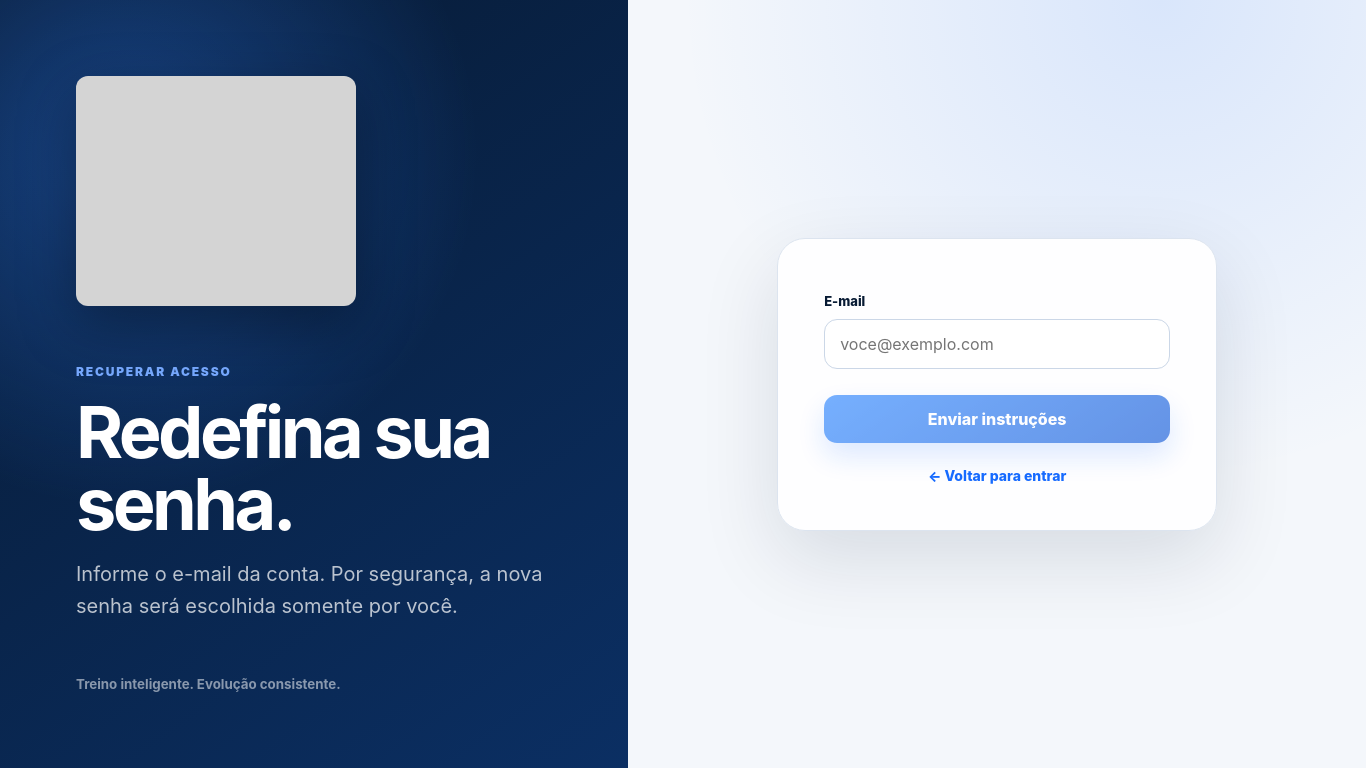
Test: recuperação de senha › envia instruções sem revelar se o e-mail existe
The width and height of the screenshot is (1366, 768).
Type "pessoa@exemplo.com" into the field labelled "E-mail" at (997,344), box [824, 318, 1170, 368]
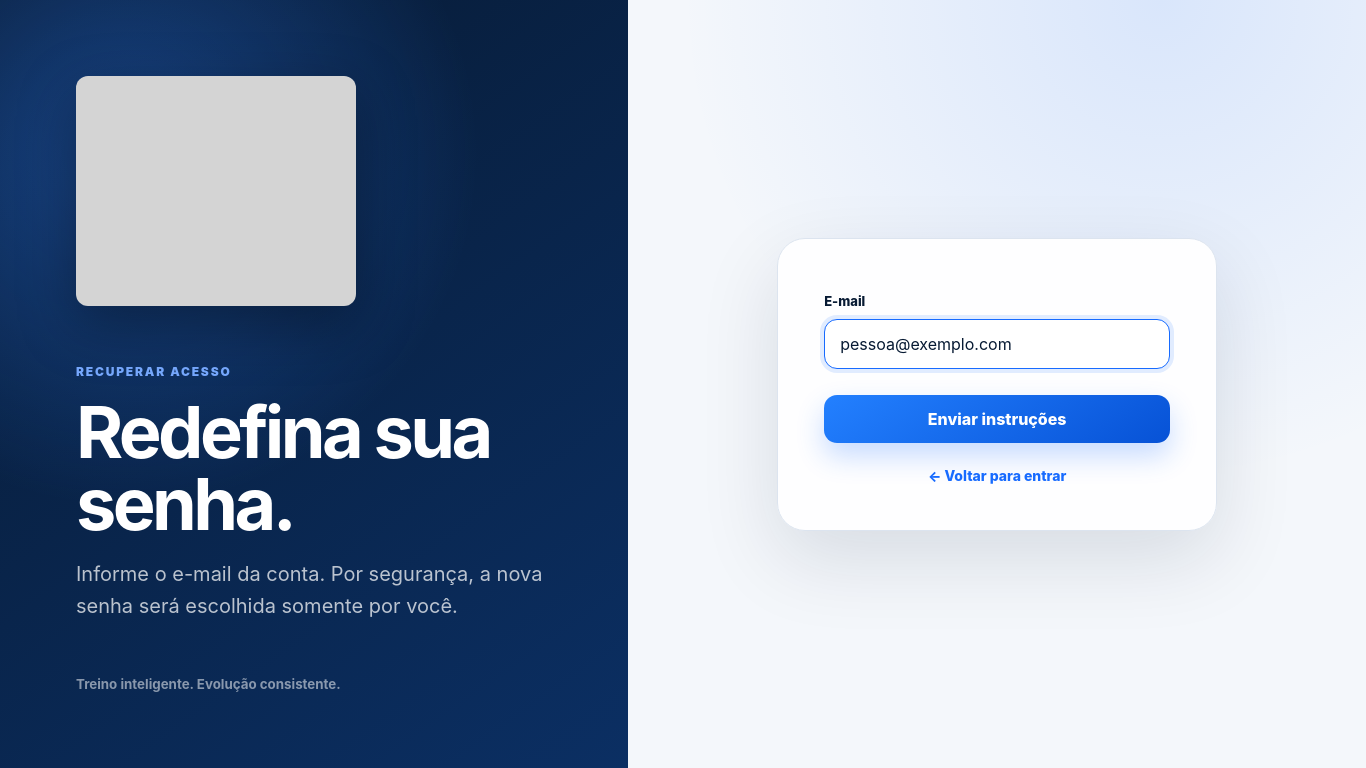
Click the button "Enviar instruções" at (997,418), box [824, 394, 1170, 442]
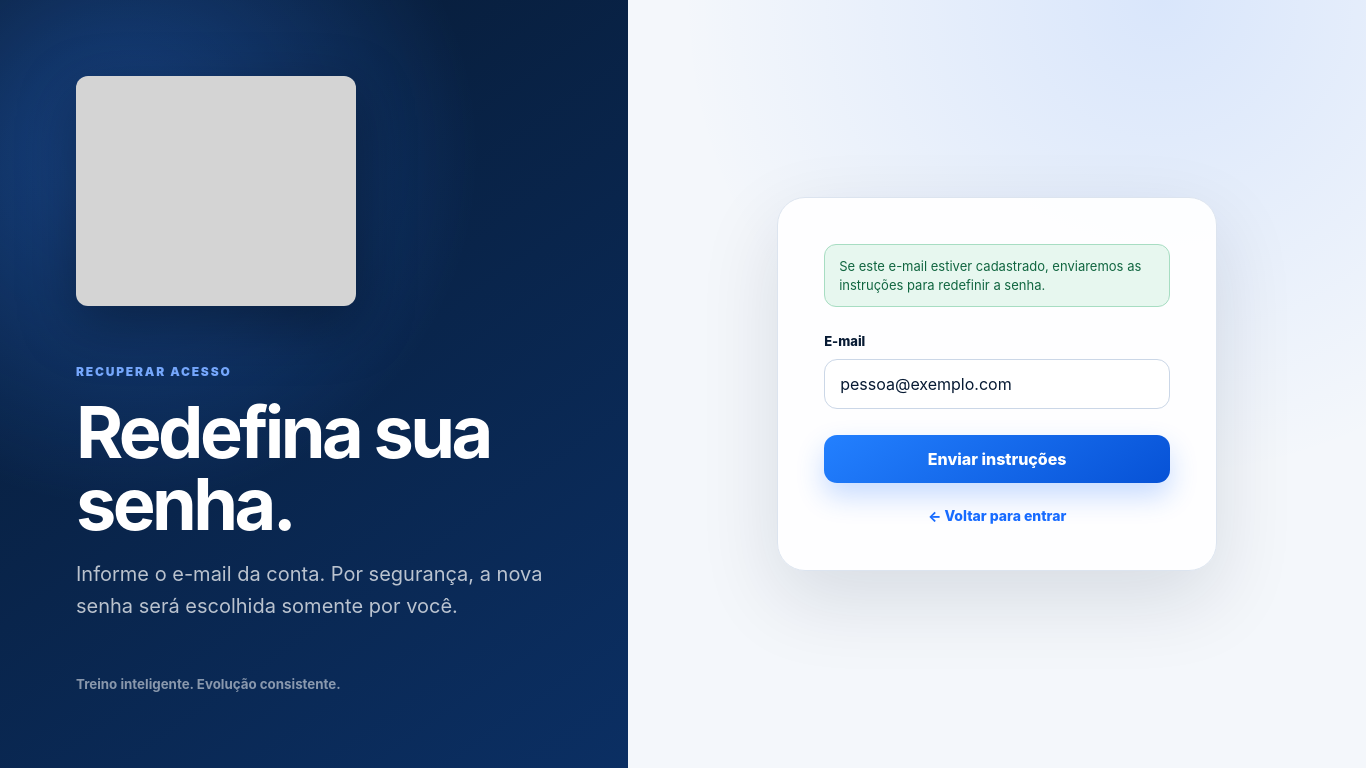
Now the message shows "Se este e-mail estiver cadastrado", box [839, 258, 1141, 292]
